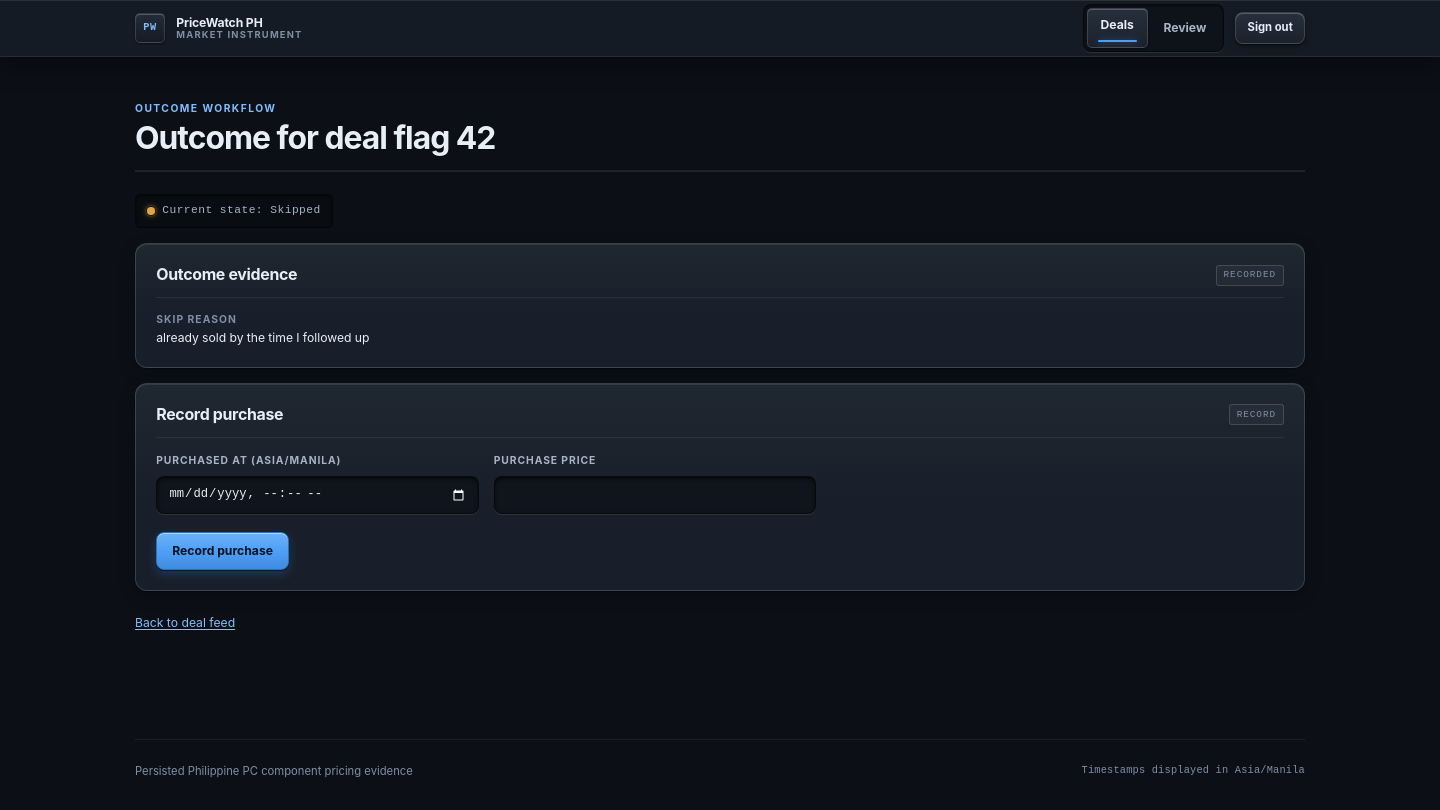
Test case: TASK_029 lifecycle transitions › transitions a skipped deal flag to open via record-purchase, clearing the skip reason
The width and height of the screenshot is (1440, 810).
Type "2026-06-15T12:00" into the field labelled "Purchased at (Asia/Manila)".
click(318, 495); type("2026-06-15T12:00")  # box [156, 476, 479, 514]
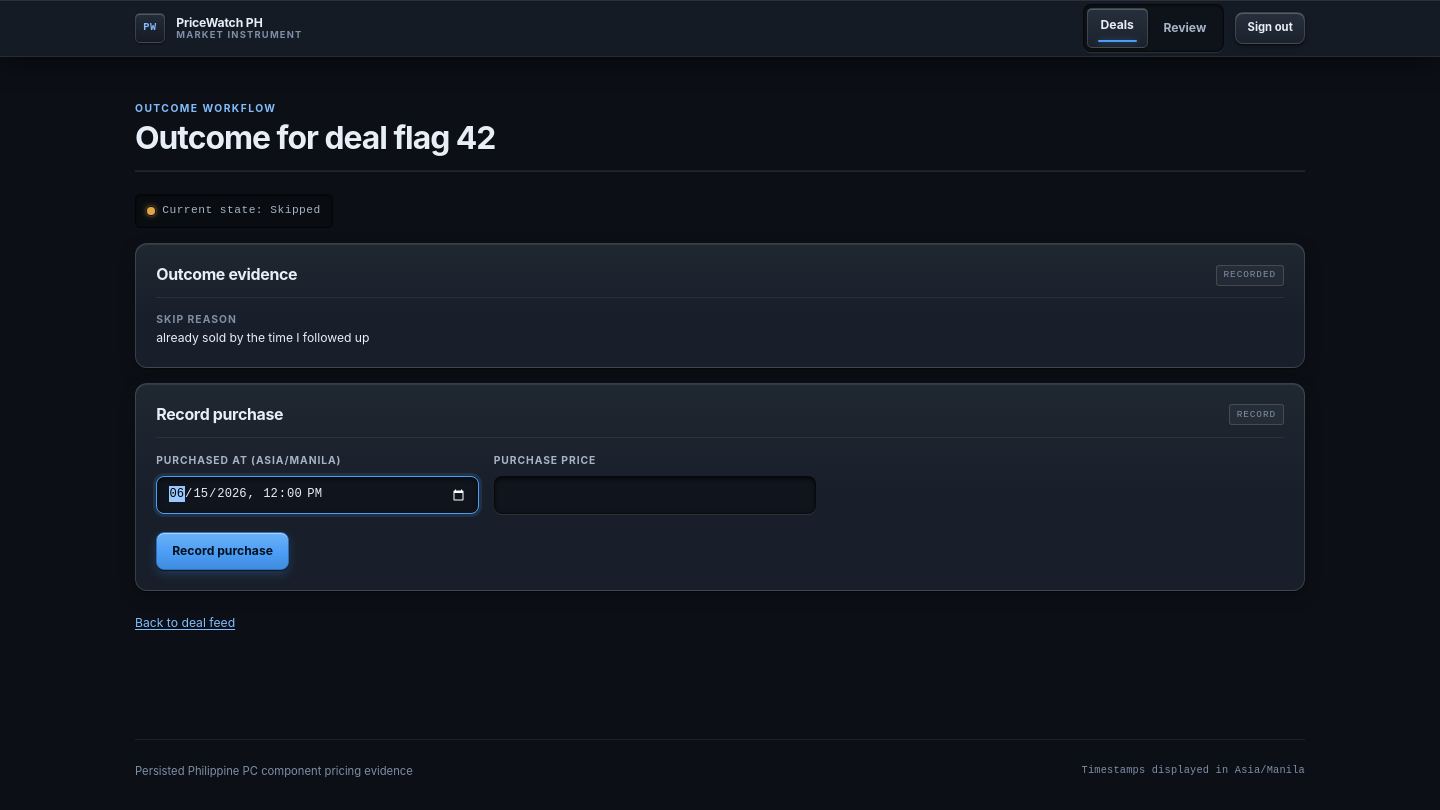
Type "12500.00" into the field labelled "Purchase price".
click(655, 495); type("12500.00")  # box [494, 476, 816, 514]
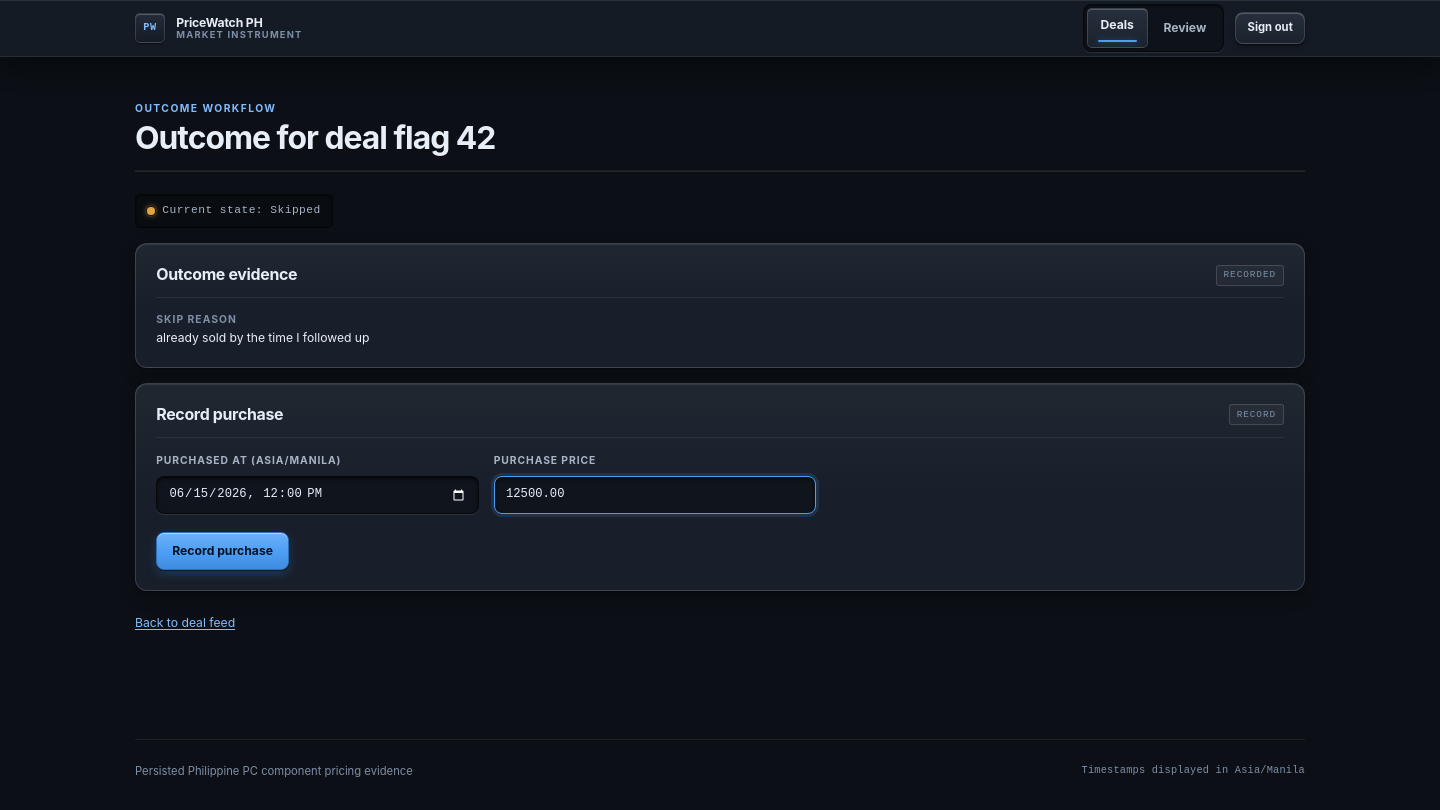
Click the button "Record purchase".
click(223, 551)  # box [156, 532, 289, 570]
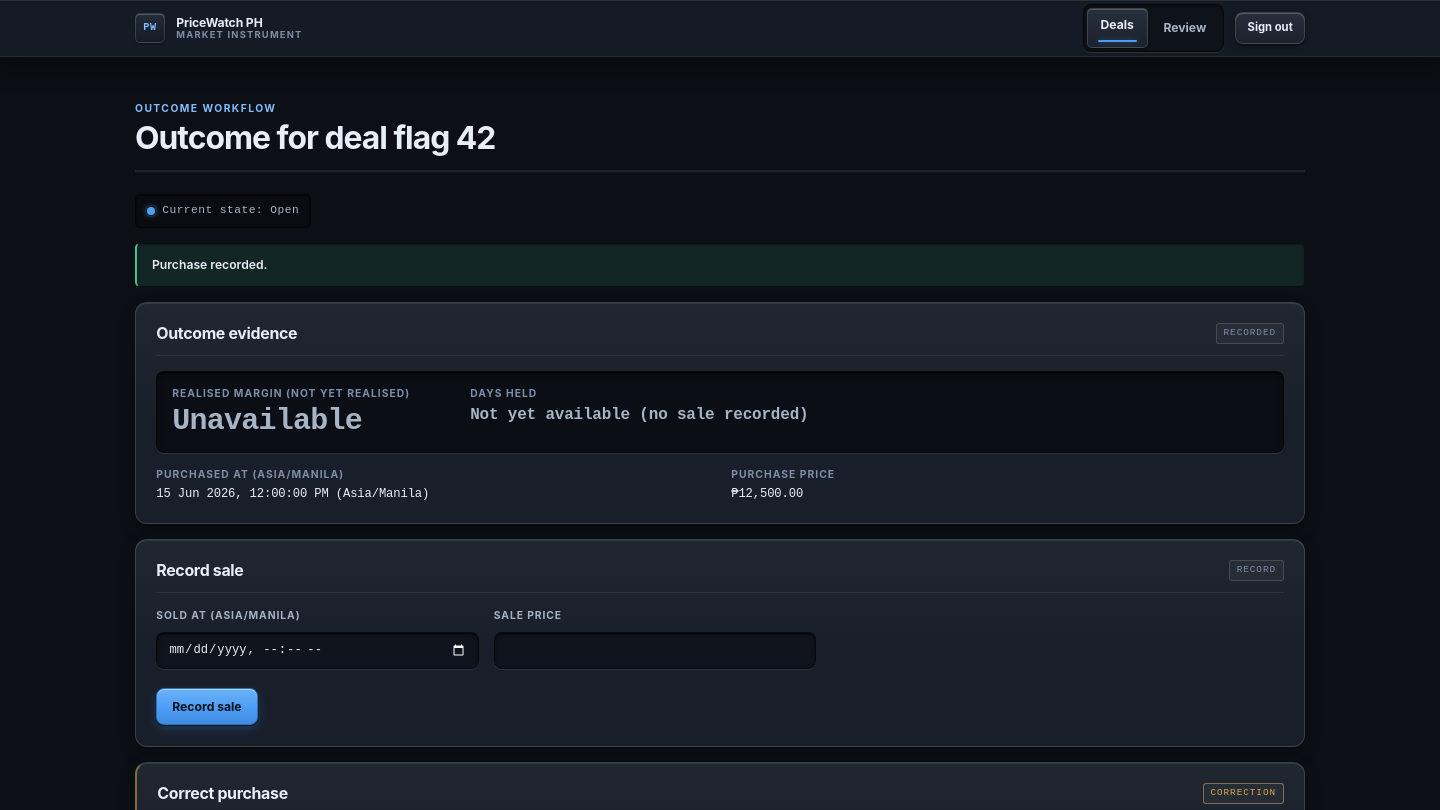
Expected: the text "Purchase recorded." is shown, [135, 243, 1305, 287]
Expected: the text "Current state: Open" is shown, [135, 194, 311, 228]
Expected: the text "already sold by the time I followed up" is gone
